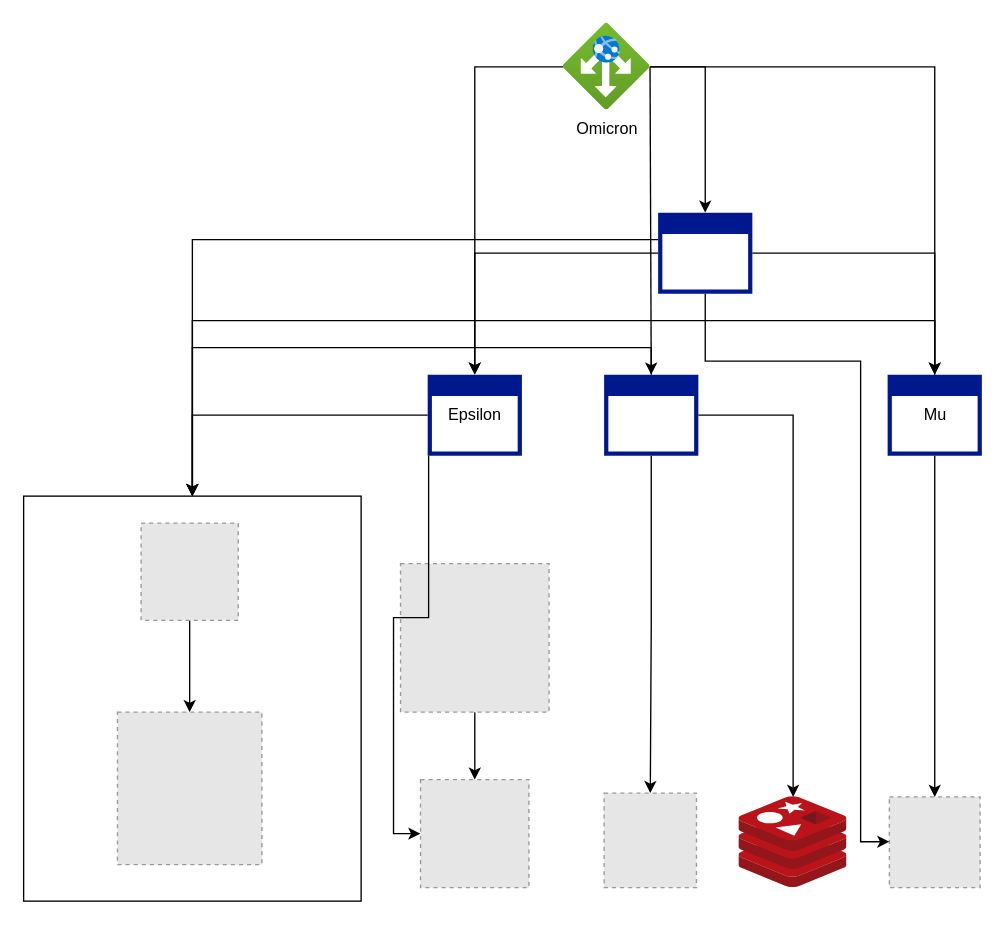
The diagram is 1006 pixels wide and 925 high, and some of its shapes have lost their labels. Grey dashed boxes stand in for pictures. The centre of each missing label's shape, as x and y in pixels:
"Alpha" belongs at [704,252].
"Sigma" belongs at [650,414].
